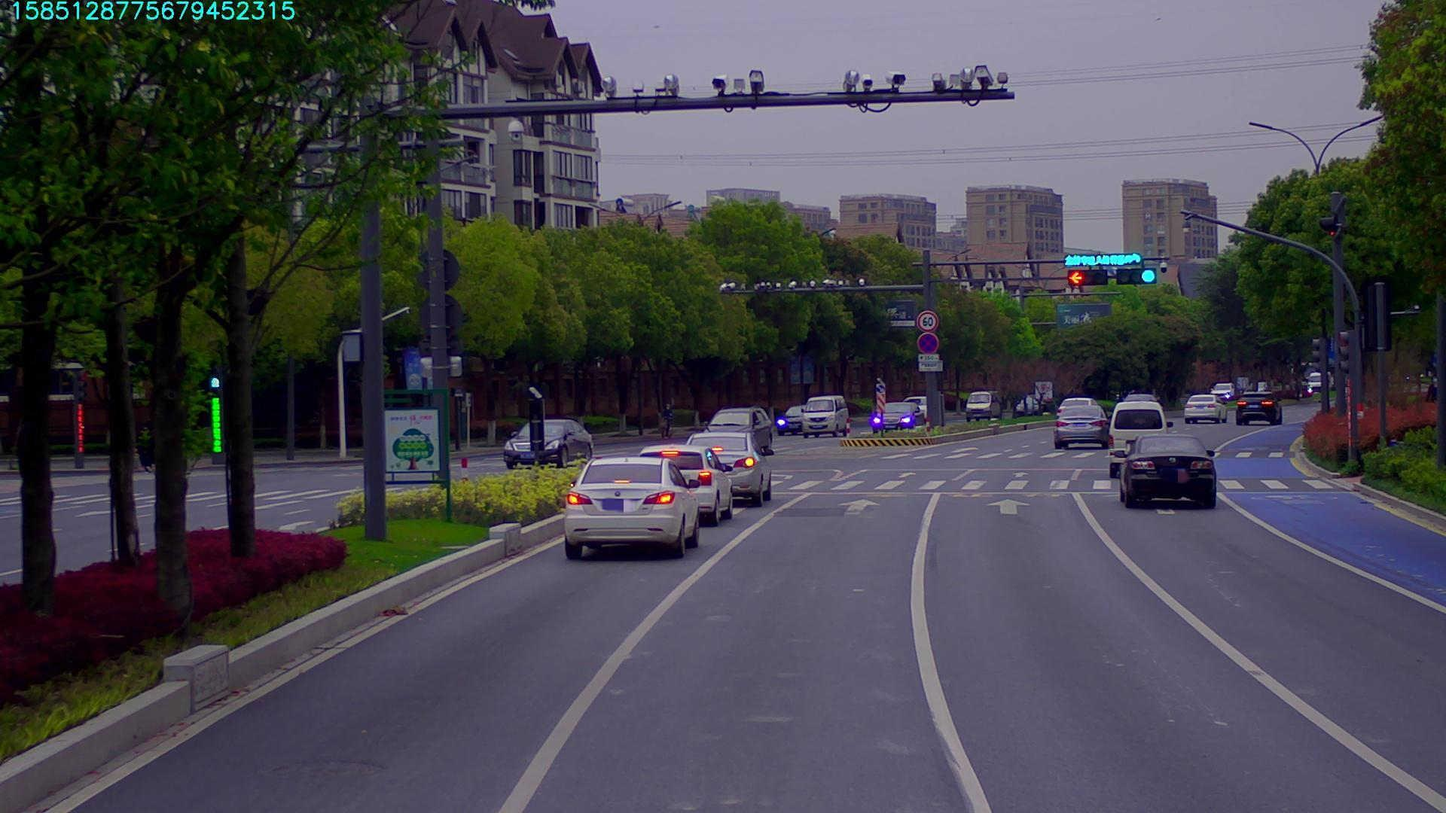green: (1115, 269, 1157, 286)
red: (1066, 270, 1107, 286)
wait_on: (1066, 252, 1136, 263)
